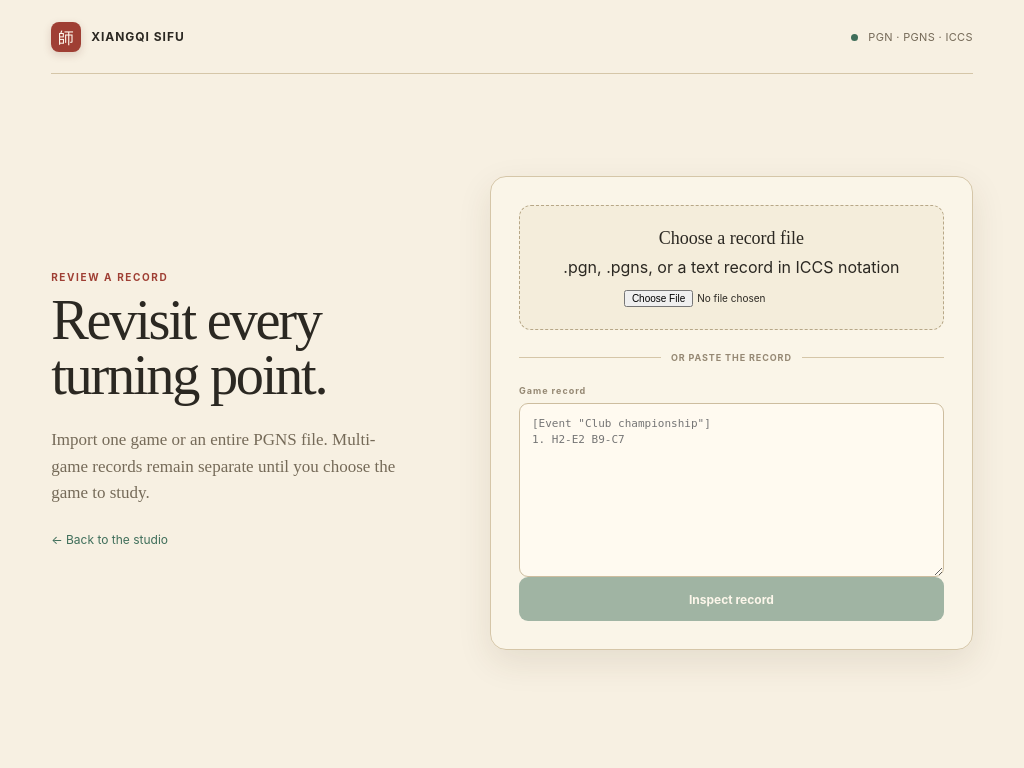
Test: requires selecting a game from a multi-game record
Type "two games" into the text box labelled "Game record". click: (731, 490)
box: [519,403,944,577]
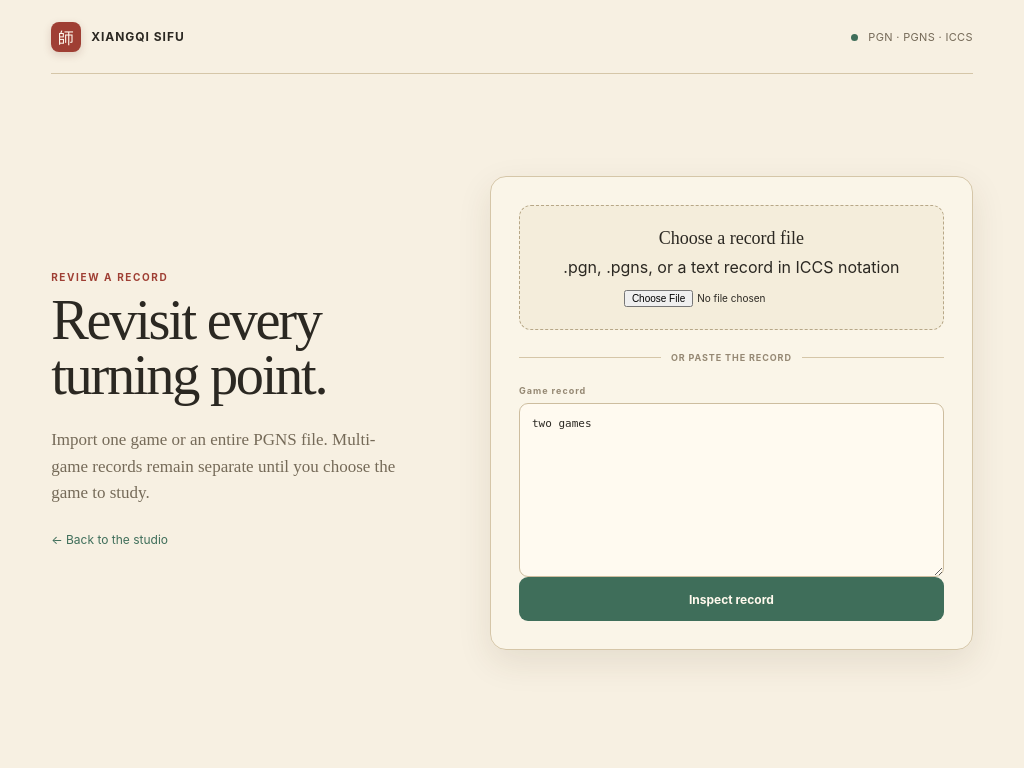
Click the button "Inspect record". click: (731, 599)
box: [519,577,944,621]
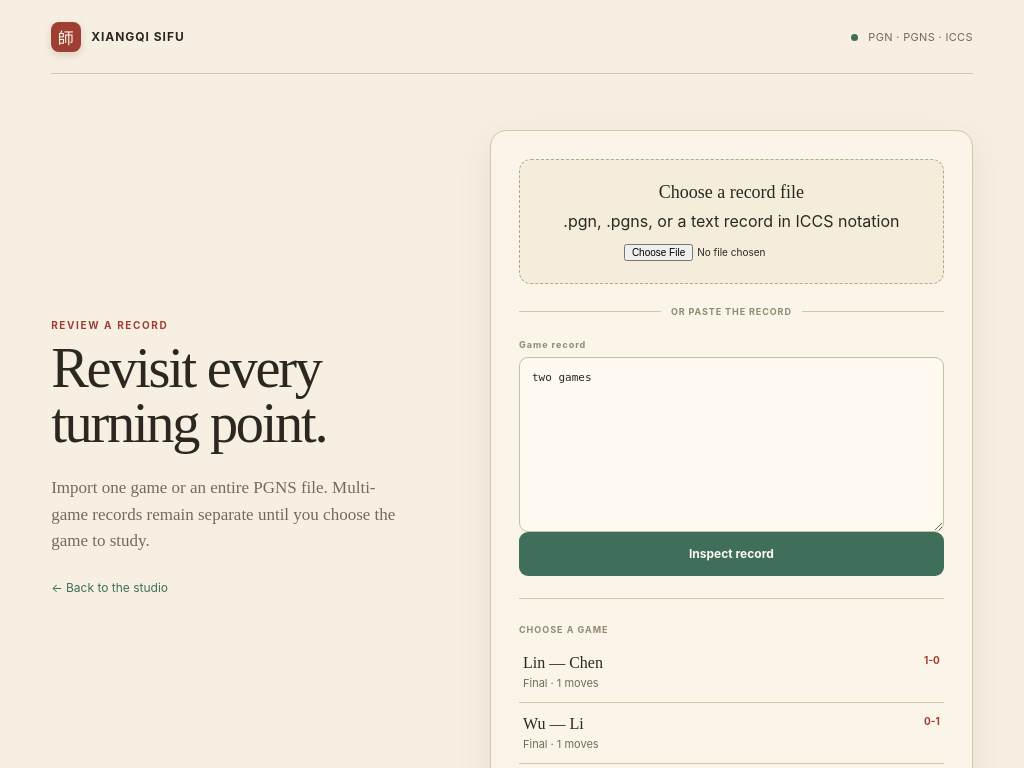
Expected: the text "Lin — Chen" is shown, [523,654,603,672]
Expected: the text "Wu — Li" is shown, [523,714,584,732]
